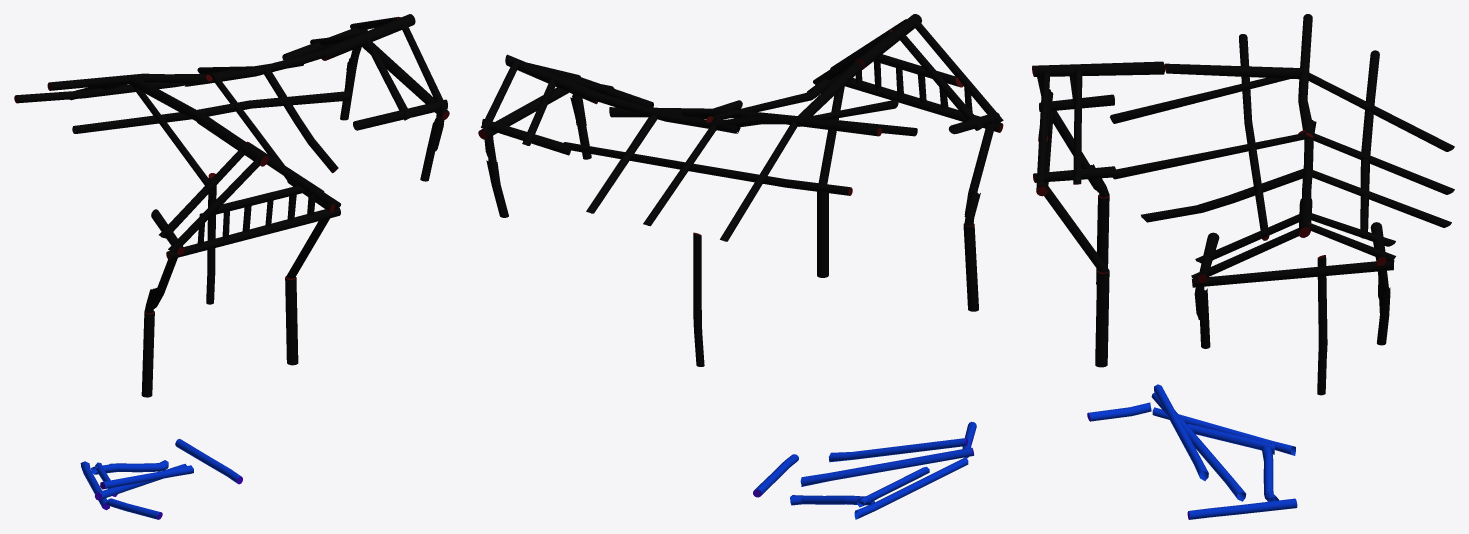
Rendered from SM_SmallLodge_Skeleton.fbx.
The picture shows the model from 3 angles, left to right: view 1: azimuth 30°, elevation 25°; view 2: azimuth 150°, elevation 25°; view 3: azimuth 270°, elevation 25°; orthographic projection. The views are drawn at different scales.
Parts seen in each view (by area): view 1: SM_ST_SmallLodge01.mo, LogsOnGround; view 2: SM_ST_SmallLodge01.mo, LogsOnGround; view 3: SM_ST_SmallLodge01.mo, LogsOnGround.
Part boxes in pixels (box(x1,y1,x2,y2)): SM_ST_SmallLodge01.mo: box(14, 14, 449, 397); LogsOnGround: box(80, 439, 242, 519); SM_ST_SmallLodge01.mo: box(478, 14, 1003, 366); LogsOnGround: box(753, 421, 976, 519); SM_ST_SmallLodge01.mo: box(1032, 14, 1454, 395); LogsOnGround: box(1087, 384, 1297, 519).
Bounding box in the file's own units: 1373 × 1194 × 1361.
